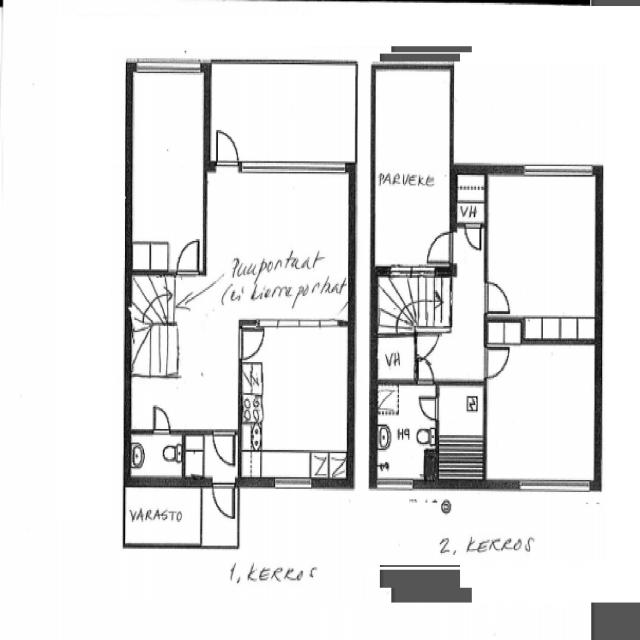door: (213, 123, 241, 169), (481, 341, 513, 381), (483, 276, 514, 316), (425, 227, 457, 264), (175, 235, 203, 276), (210, 477, 237, 519), (238, 322, 266, 362), (210, 428, 239, 466), (413, 328, 442, 364), (416, 392, 442, 422), (463, 220, 485, 253), (150, 403, 172, 435), (414, 355, 436, 385)
window: (238, 152, 348, 176), (511, 472, 595, 496), (133, 52, 205, 76), (520, 158, 596, 179), (378, 258, 444, 281), (267, 471, 318, 493), (268, 316, 338, 332), (374, 472, 417, 495)
zone: (206, 164, 353, 328), (486, 168, 600, 337), (127, 275, 242, 432), (240, 322, 350, 482), (484, 338, 600, 487), (374, 62, 452, 272), (130, 66, 207, 275), (374, 380, 437, 484), (123, 481, 200, 546), (438, 383, 483, 482), (127, 431, 184, 484), (374, 330, 417, 381), (452, 166, 488, 224)
